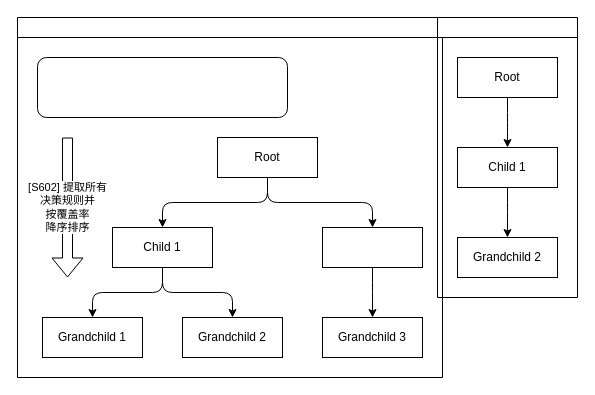
Some shapes in this 595 by 395 pixel diagram are drawn without their labels. The centre of each missing label's shape, as x and y in pixels:
"[S601] 输入: 剪枝前的高保真决策树 (复杂) (节点众多，结构深邃，保真度高但难以理解)" belongs at pixel 162 87.
"Child 2" belongs at pixel 372 247.
